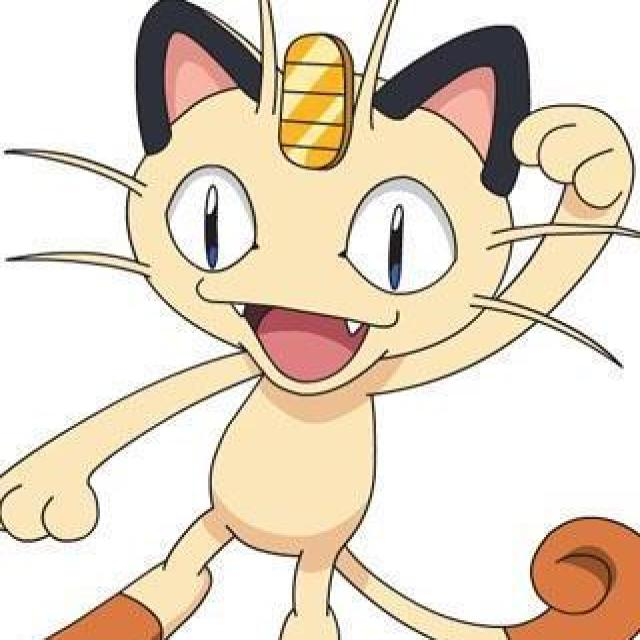Meowth: (115, 0, 531, 638)
